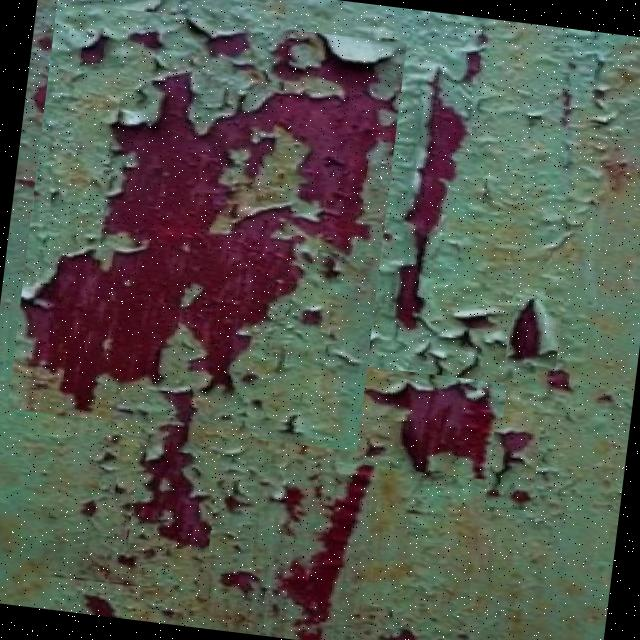Corrosion: (0, 0, 640, 640), (354, 369, 498, 482)
